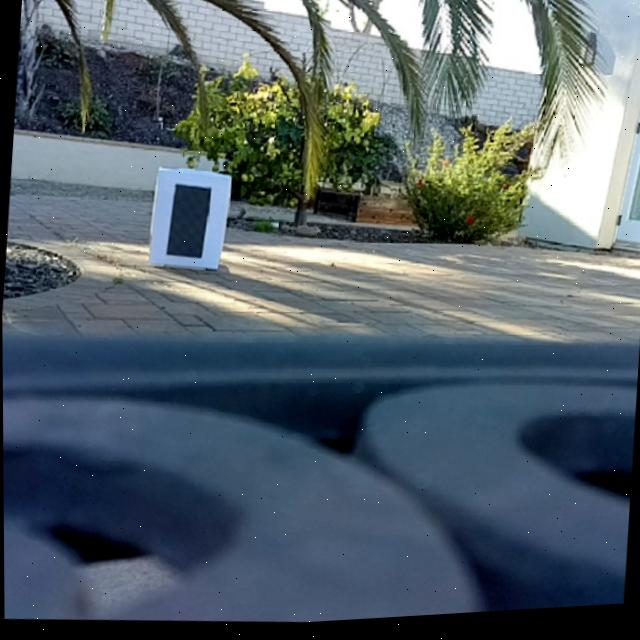led: (164, 183, 212, 263)
